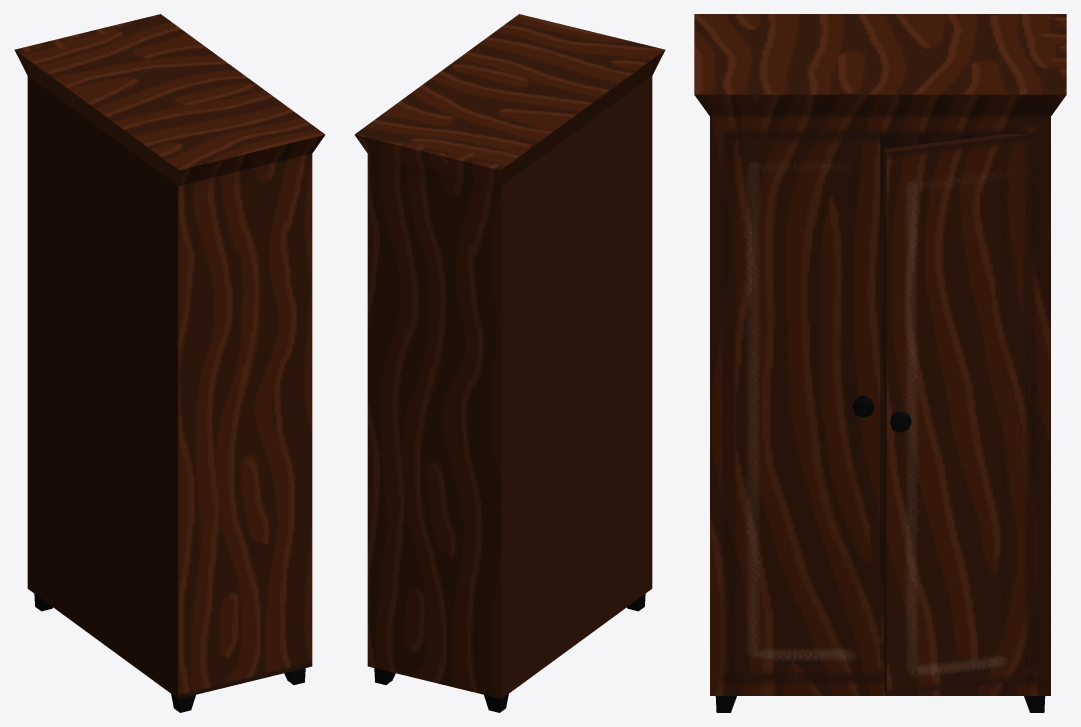
The model's file is Modelo armario.fbx.
3 views of the same model, side by side, from view 1: azimuth 30°, elevation 25°; view 2: azimuth 150°, elevation 25°; view 3: azimuth 270°, elevation 25° (orthographic). The views are drawn at different scales.
Visible parts, largest first — view 1: armario, patas; view 2: armario, patas; view 3: puerta izq, puerta der, armario, patas.
Boxes of the visible parts, left/top/right/bottom form: armario: left=14, top=14, right=325, bottom=698; patas: left=34, top=594, right=305, bottom=712; armario: left=354, top=14, right=665, bottom=698; patas: left=374, top=594, right=645, bottom=712; puerta izq: left=729, top=134, right=880, bottom=678; puerta der: left=884, top=134, right=1031, bottom=695; armario: left=694, top=14, right=1066, bottom=695; patas: left=715, top=696, right=1045, bottom=712.
Size of the model in its own units: 148 by 94.94 by 274.
2 materials, 1 textured.
